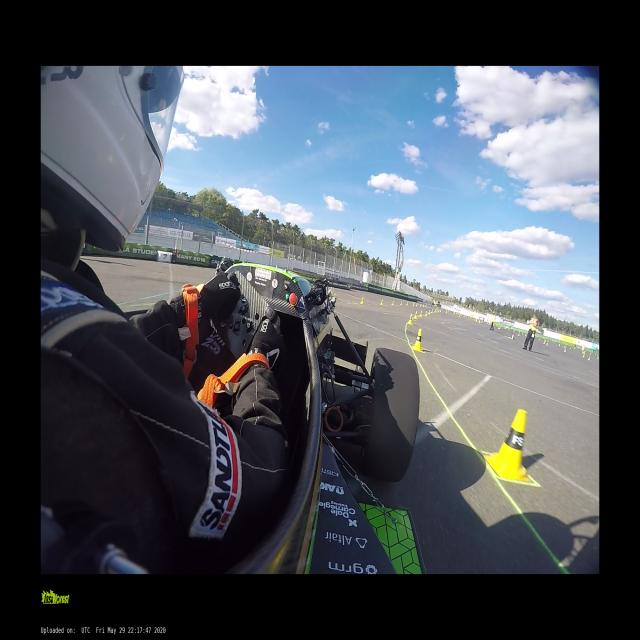yellow_cone: (487, 410, 534, 479), (411, 328, 424, 353), (407, 313, 412, 325), (413, 311, 418, 319), (379, 298, 383, 306), (360, 297, 363, 304), (419, 311, 423, 316), (391, 300, 394, 305), (582, 353, 585, 358), (428, 310, 431, 314), (405, 302, 408, 306), (425, 311, 427, 316), (400, 301, 402, 305), (413, 302, 414, 306)
